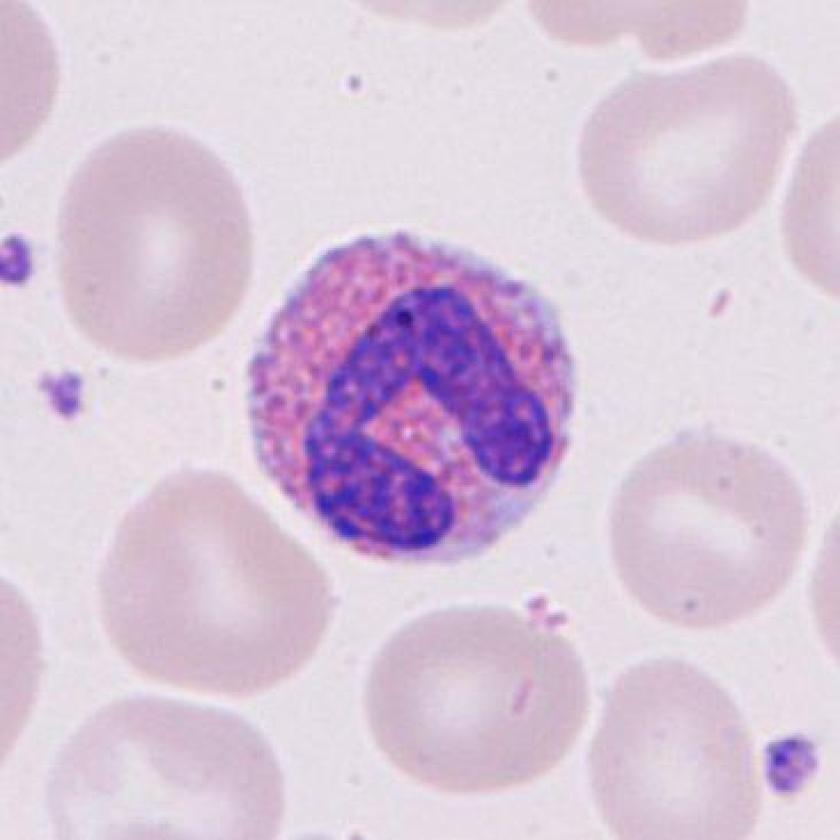eosinophil: (229, 213, 603, 579)
